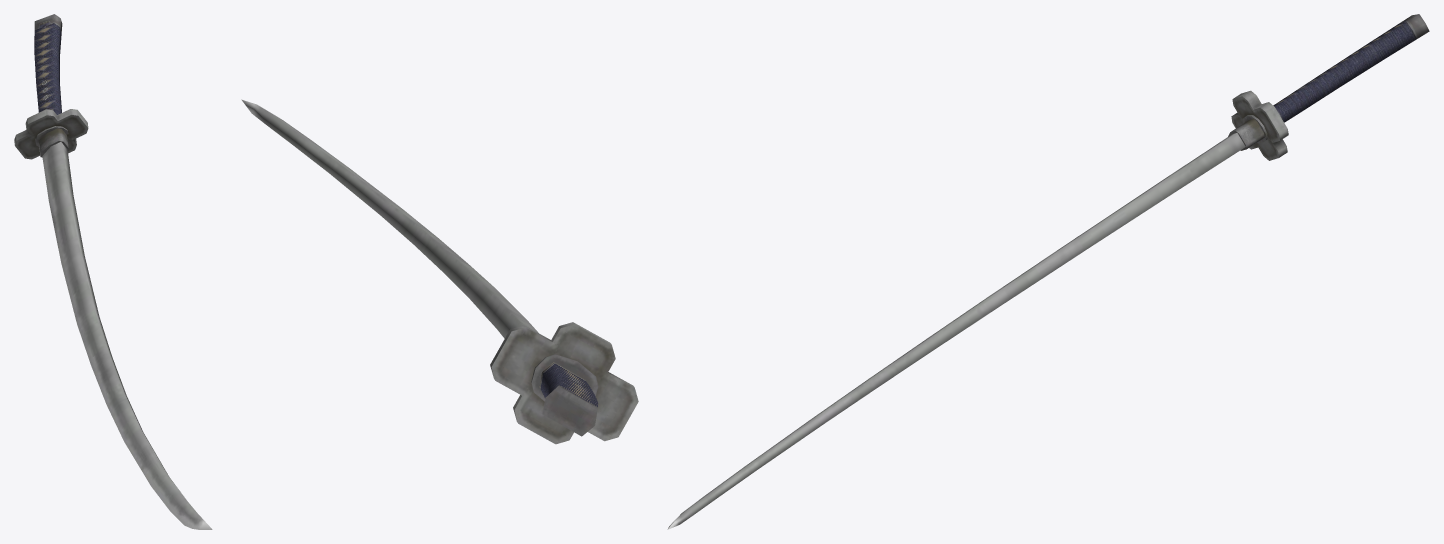
The model's file is rider-weapon-slice-copperweapons.glb.
3 renders of one model, left to right at view 1: azimuth 30°, elevation 25°; view 2: azimuth 210°, elevation 25°; view 3: azimuth 330°, elevation 25°, orthographic. The views are drawn at different scales.
Size of the model in its own units: 0.4595 by 0.3574 by 1.29.
Materials: 1 (1 with a texture image).
